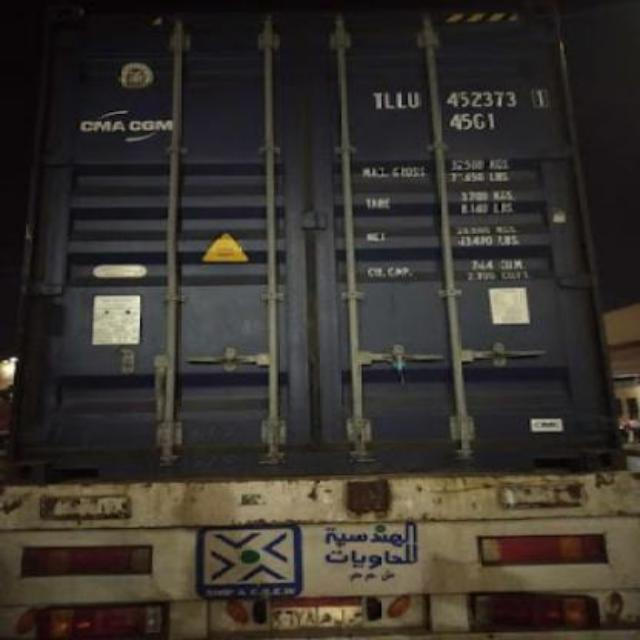1: (532, 88, 550, 109)
2: (468, 88, 484, 108)
3: (480, 86, 492, 110), (505, 89, 519, 109)
4: (447, 91, 459, 109)
5: (456, 90, 469, 110)
7: (493, 88, 505, 110)
L: (381, 90, 397, 112), (394, 88, 408, 112)
T: (372, 90, 384, 112)
U: (406, 89, 422, 111)
